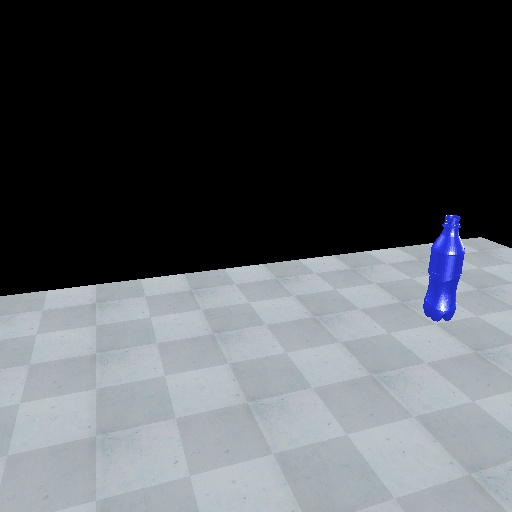bottle: (420, 213, 468, 324)
